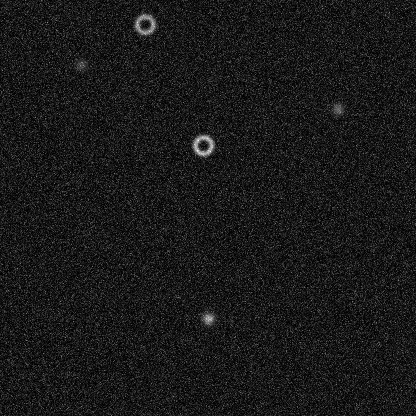Ring: (191, 133, 215, 157), (132, 12, 156, 36)
Spot: (200, 310, 216, 326), (73, 56, 89, 72), (329, 100, 345, 116)
